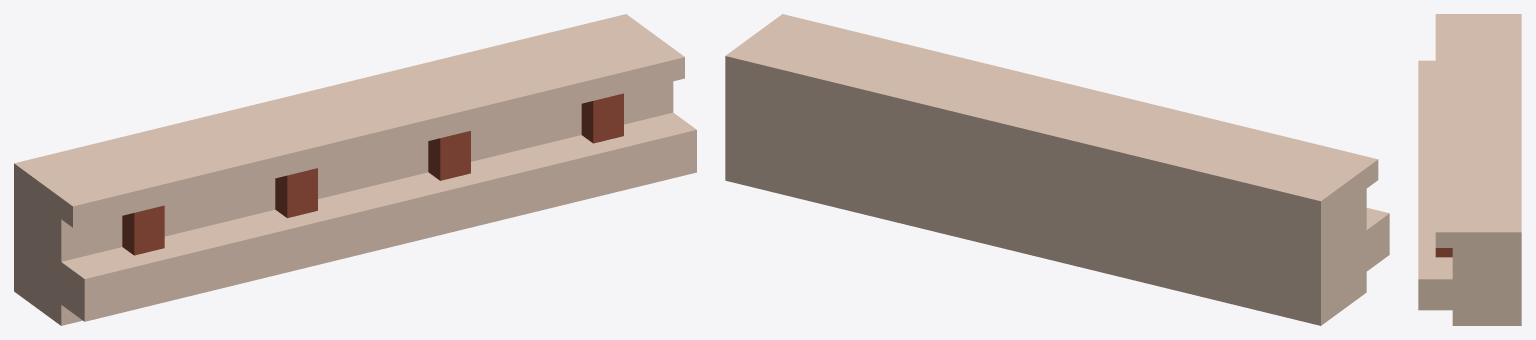
Rendered from greek_wall_divider_1.fbx.
3 renders of one model, left to right at view 1: azimuth 30°, elevation 25°; view 2: azimuth 150°, elevation 25°; view 3: azimuth 270°, elevation 25°, orthographic. The views are drawn at different scales.
Visible parts, largest first — view 1: Cube.003; view 2: Cube.003; view 3: Cube.003.
Part boxes in pixels (x1,y1,x2,y2): Cube.003: [14, 14, 696, 325]; Cube.003: [725, 14, 1389, 325]; Cube.003: [1418, 14, 1521, 325].
Bounding box in the file's own units: 300 × 60 × 60.
